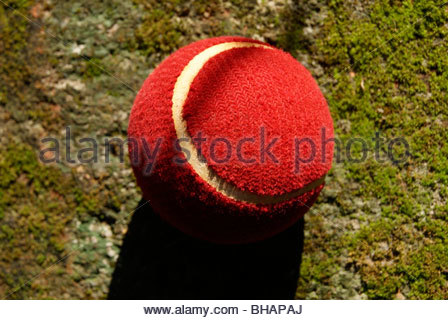red ball: (125, 36, 337, 233)
